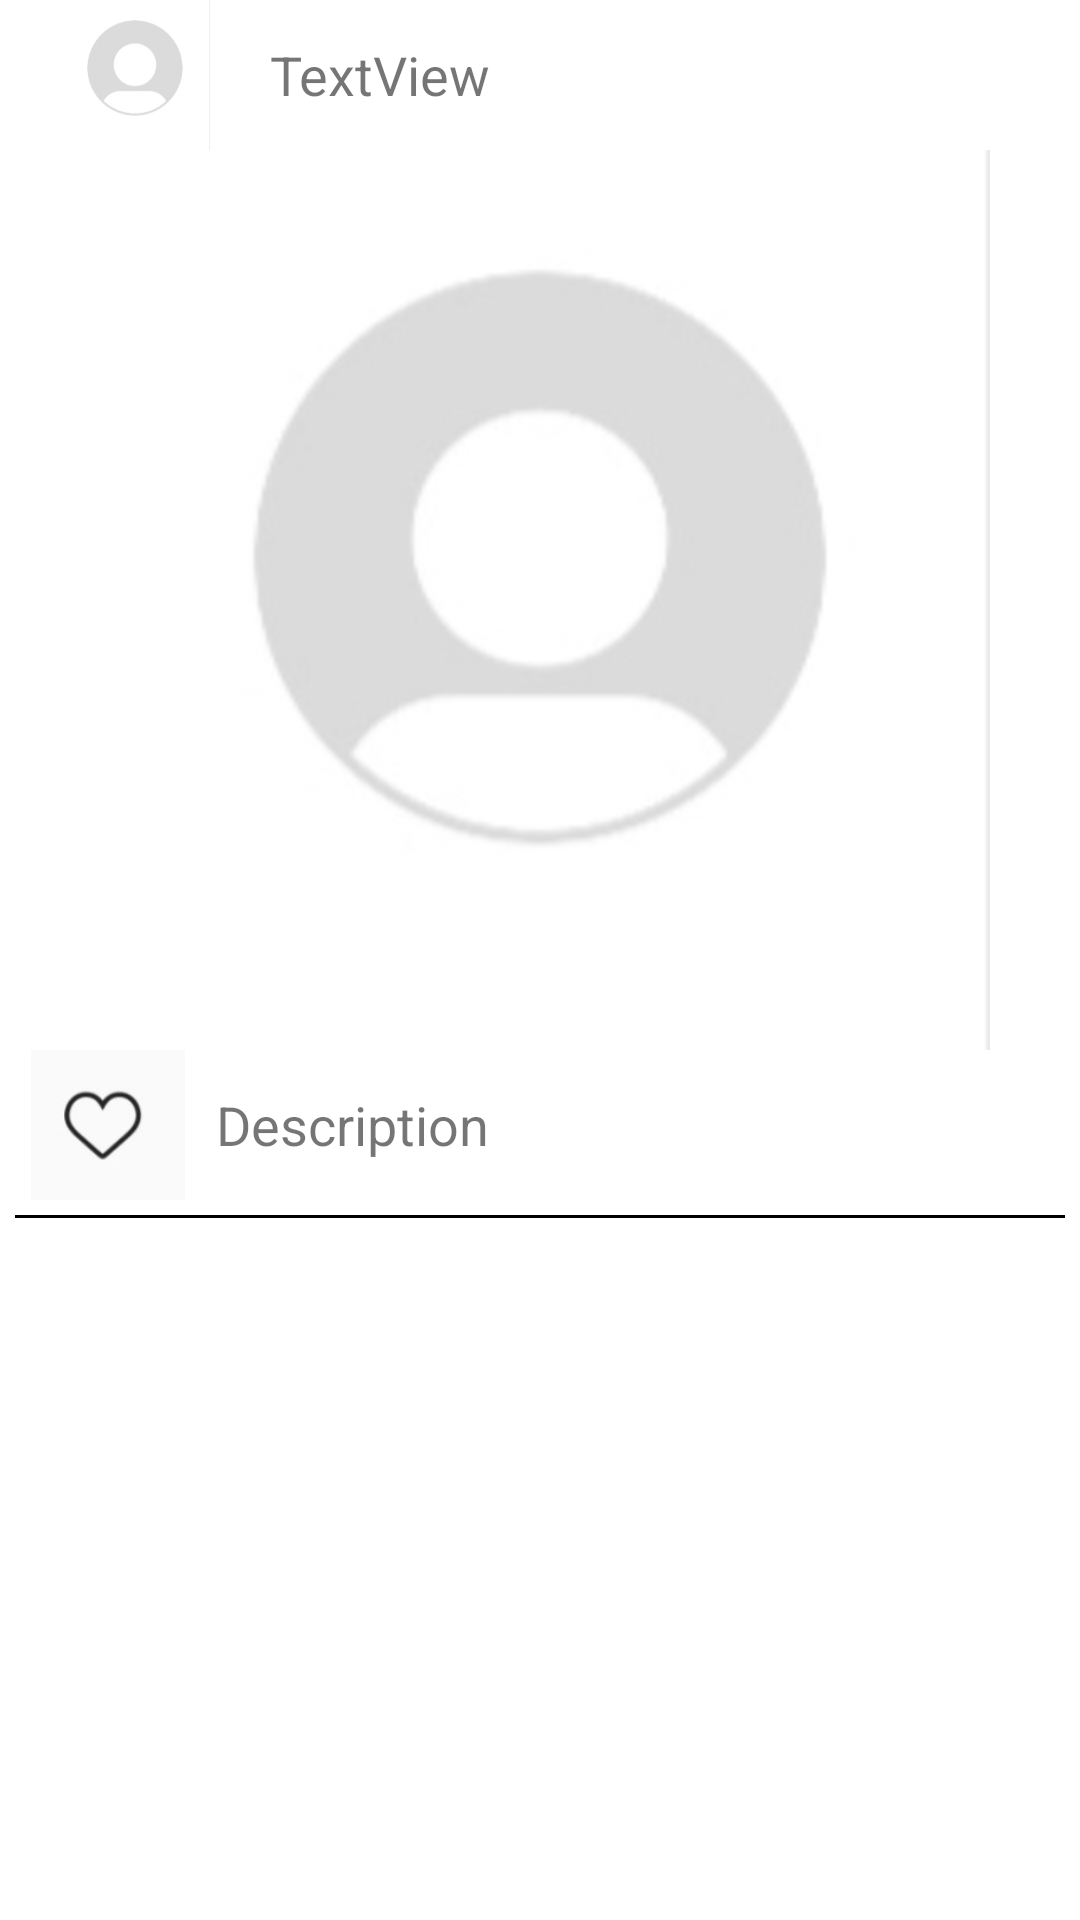

Screen size 1080*1920. Icon name, then its box in pixels as (x1, y1, x2, y2):
btm like: (64, 1091, 142, 1160)
